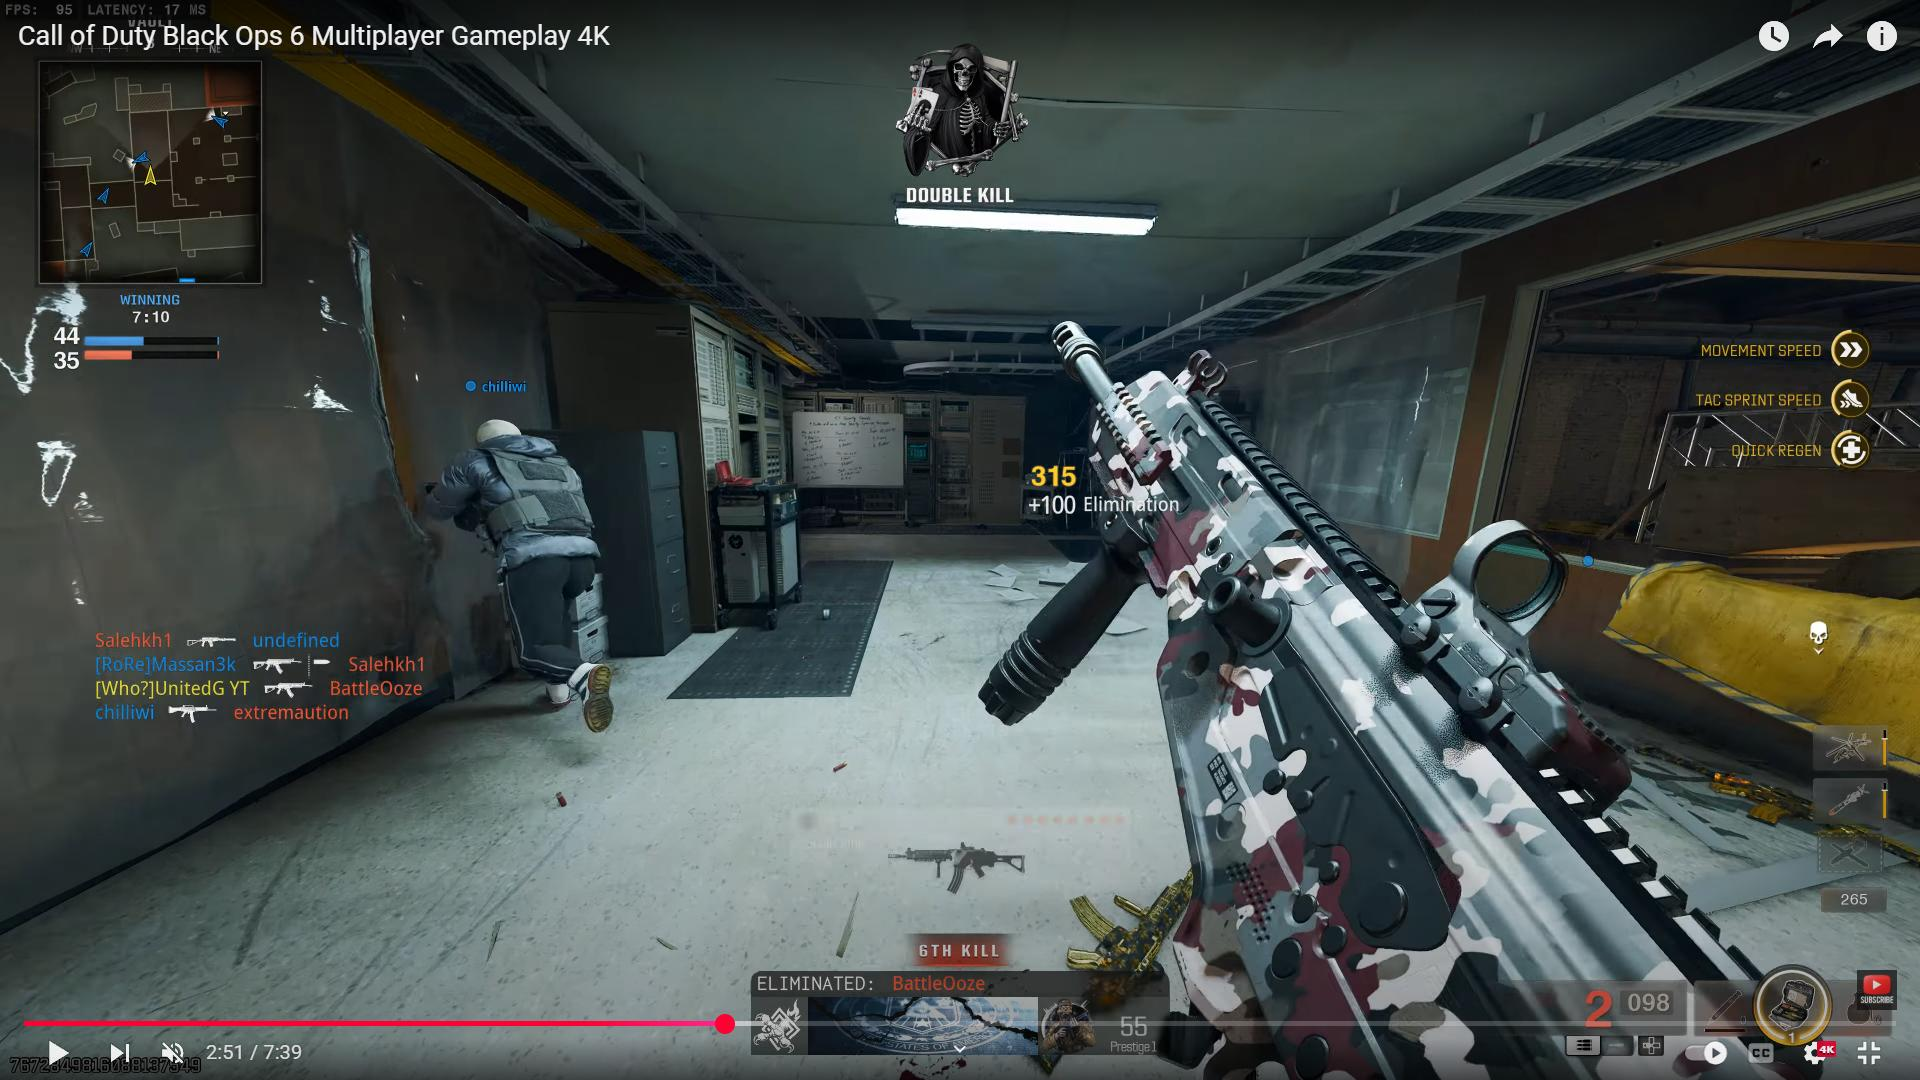Enemy: (414, 407, 653, 732)
